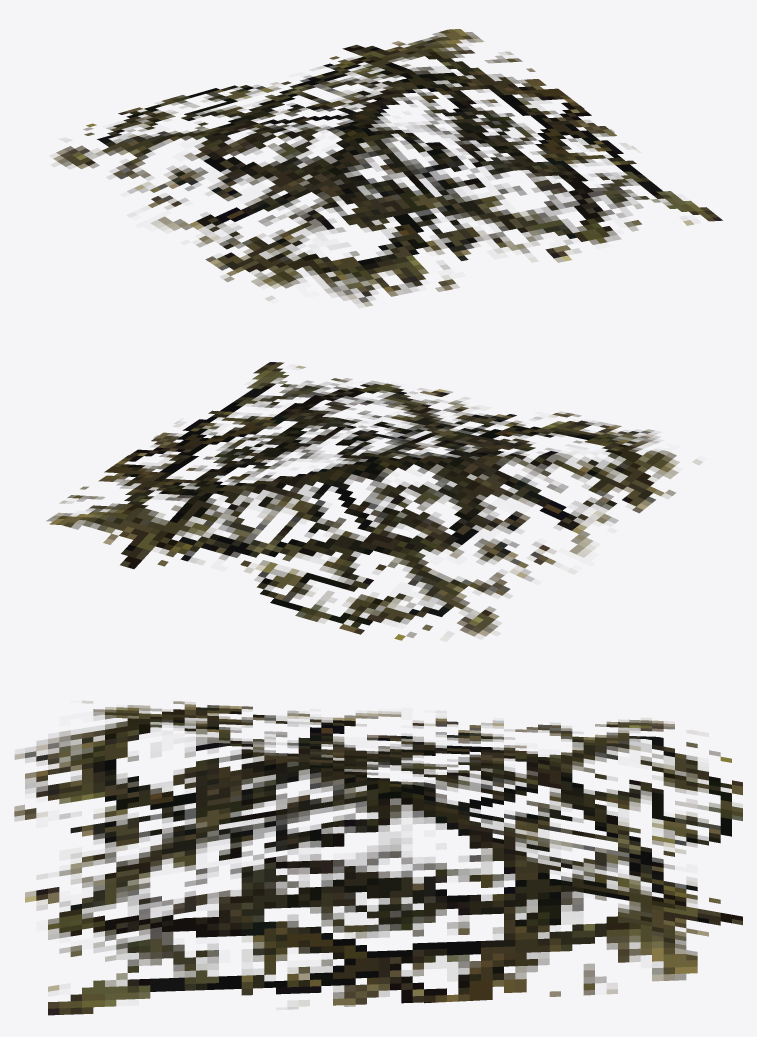
Rendered from Environment - Prop - Vines Brown - Damaged - PMvines02_D.glb.
The picture shows the model from 3 angles, top to bottom: view 1: azimuth 30°, elevation 25°; view 2: azimuth 150°, elevation 25°; view 3: azimuth 270°, elevation 25°; orthographic projection. The views are drawn at different scales.
Parts seen in each view (by area): view 1: PMVINES02_D; view 2: PMVINES02_D; view 3: PMVINES02_D.
Part boxes in pixels (x1,y1,x2,y2): PMVINES02_D: (53, 29, 722, 306); PMVINES02_D: (46, 362, 702, 640); PMVINES02_D: (14, 701, 742, 1015).
Bounding box in the file's own units: 24.72 × 2.84 × 24.99.
Materials: 1 (1 with a texture image).
